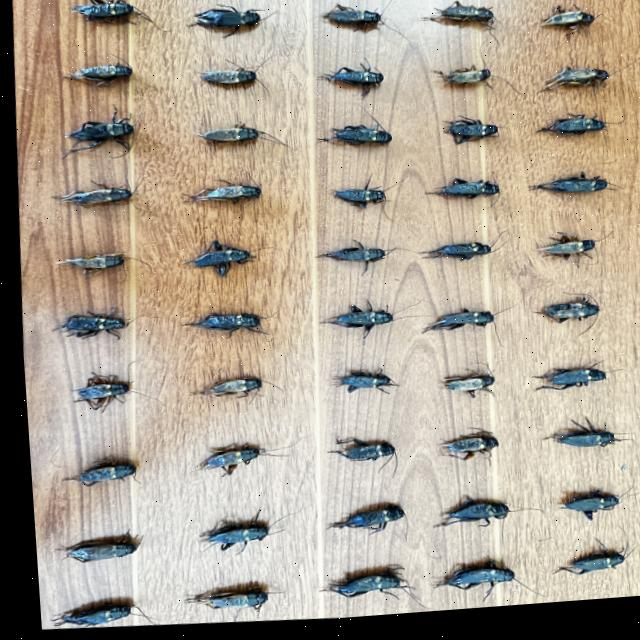no: (177, 242, 248, 280), (425, 568, 505, 600), (49, 309, 122, 340), (537, 427, 612, 455), (426, 505, 501, 533), (68, 373, 123, 411), (63, 121, 130, 152), (311, 578, 397, 602), (320, 510, 395, 537), (317, 70, 381, 101), (192, 525, 260, 553), (180, 316, 256, 339), (43, 605, 124, 626), (189, 451, 253, 477), (317, 310, 387, 333), (527, 376, 599, 398), (417, 316, 487, 338), (543, 76, 609, 99), (555, 502, 611, 529), (176, 595, 260, 613), (526, 182, 605, 201), (321, 443, 386, 466), (423, 185, 495, 205), (314, 131, 388, 150), (440, 125, 494, 151), (534, 123, 601, 143), (58, 544, 128, 563), (530, 310, 593, 331), (69, 0, 132, 21), (65, 465, 128, 486), (549, 563, 615, 583), (193, 12, 259, 32), (326, 377, 391, 397), (321, 9, 381, 30), (56, 189, 129, 206), (414, 249, 486, 266), (423, 13, 492, 30), (62, 66, 131, 82), (52, 255, 120, 271), (193, 382, 256, 399), (187, 189, 257, 204), (329, 194, 383, 213), (312, 252, 381, 266), (191, 131, 257, 144), (199, 73, 254, 87), (531, 249, 589, 262), (439, 76, 488, 90), (540, 20, 592, 33), (439, 385, 476, 397), (232, 385, 238, 391), (462, 446, 470, 450)
